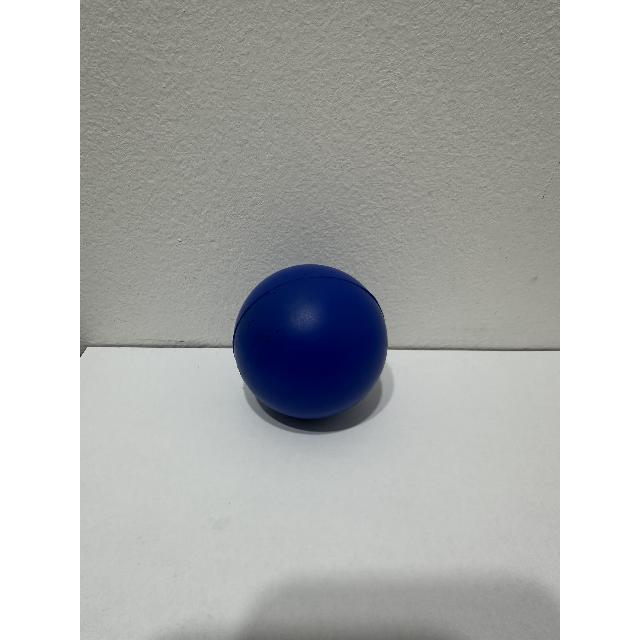blue_ball: (220, 234, 446, 480)
